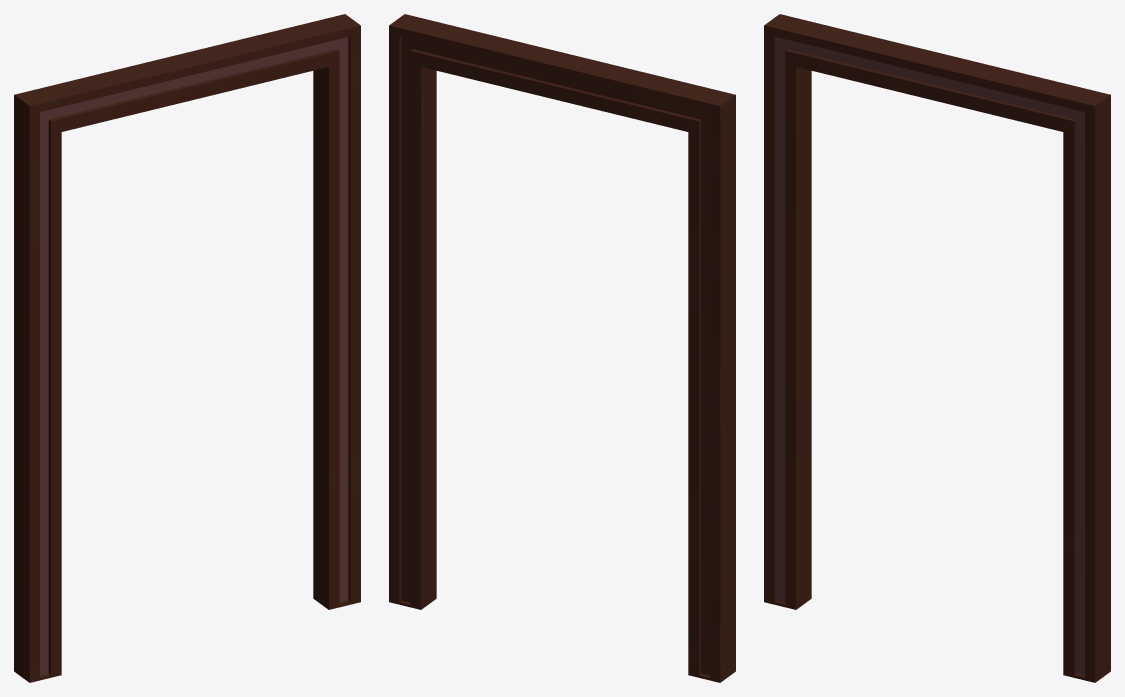
The model's file is porta.fbx.
3 renders of one model, left to right at view 1: azimuth 30°, elevation 25°; view 2: azimuth 150°, elevation 25°; view 3: azimuth 330°, elevation 25°, orthographic.
Visible parts, largest first — view 1: polySurface759; view 2: polySurface759; view 3: polySurface759.
Part boxes in pixels (left/top/right/bottom): polySurface759: left=14, top=14, right=360, bottom=682; polySurface759: left=389, top=14, right=735, bottom=682; polySurface759: left=764, top=14, right=1110, bottom=682.
Size of the model in its own units: 2 by 3.33 by 0.1638.
